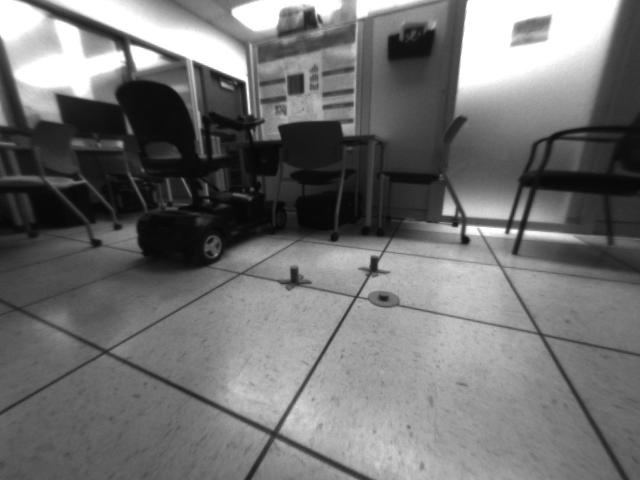X: (277, 263, 311, 292), (357, 252, 391, 279)
